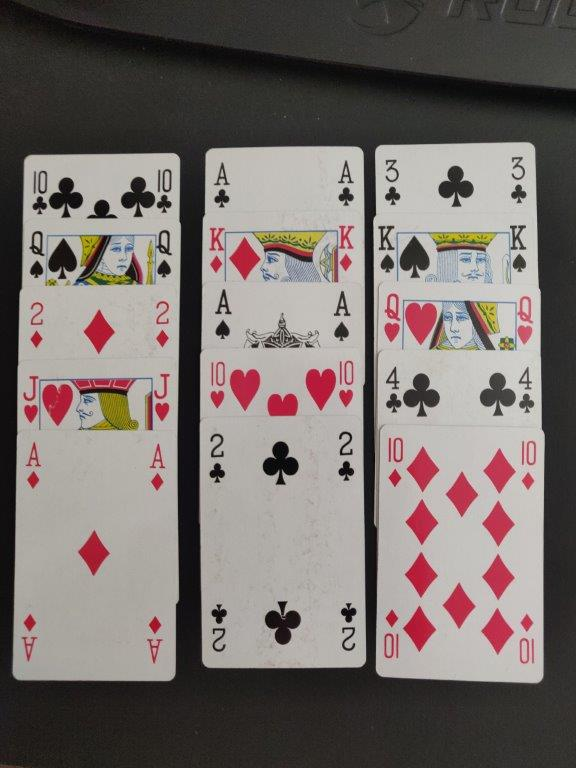10C: (25, 167, 53, 215), (153, 162, 175, 216)
10D: (384, 434, 409, 490), (516, 436, 541, 491)
10H: (204, 357, 230, 413), (335, 356, 357, 411)
2C: (205, 430, 230, 490), (334, 427, 358, 482)
2D: (150, 295, 176, 349), (24, 299, 48, 350)
3C: (376, 156, 406, 206), (506, 152, 531, 210)
4C: (379, 359, 406, 418), (513, 364, 537, 418)
AC: (332, 155, 359, 208), (208, 160, 235, 208)
AD: (142, 438, 171, 496), (21, 437, 45, 495)
AS: (327, 286, 357, 347), (209, 285, 235, 341)
JH: (20, 370, 46, 428), (149, 371, 174, 423)
KD: (331, 218, 361, 277), (203, 223, 231, 277)
KS: (503, 220, 533, 280), (373, 222, 403, 278)
QH: (512, 293, 539, 349), (381, 290, 406, 345)
QS: (24, 227, 51, 285), (153, 227, 176, 282)
